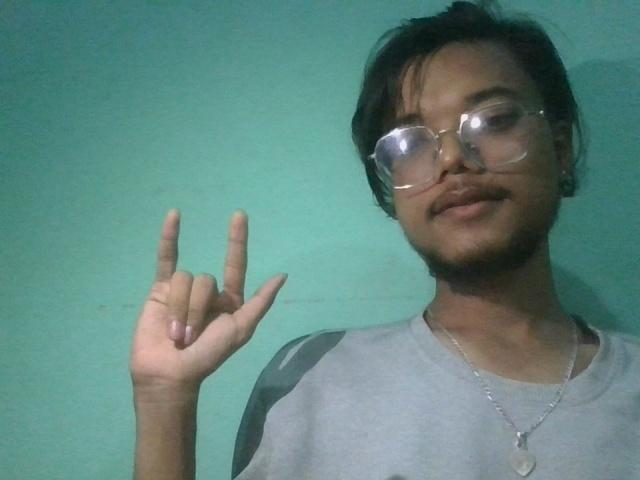I Love You: (103, 187, 297, 412)
